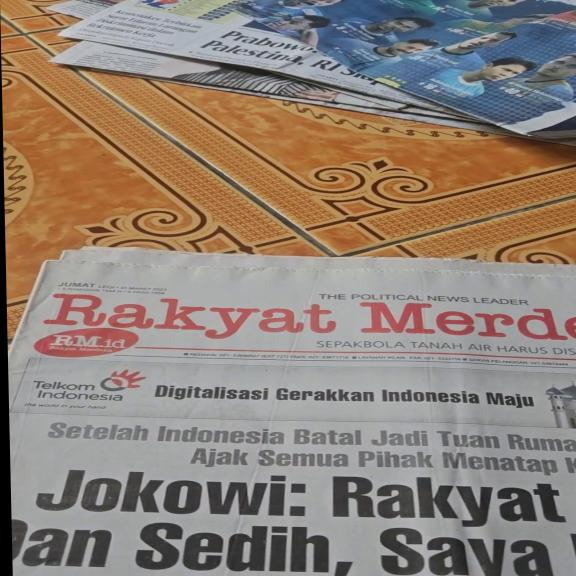Kertas: (41, 258, 576, 568), (70, 2, 453, 66)
